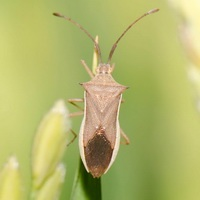insect: (53, 9, 158, 177)
